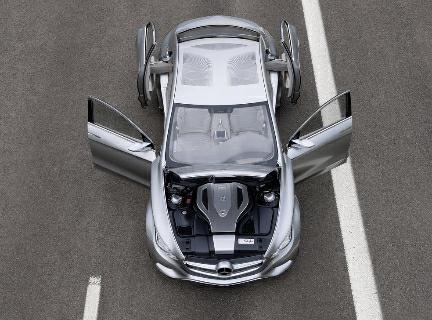奔驰-F800: (132, 13, 310, 291)
